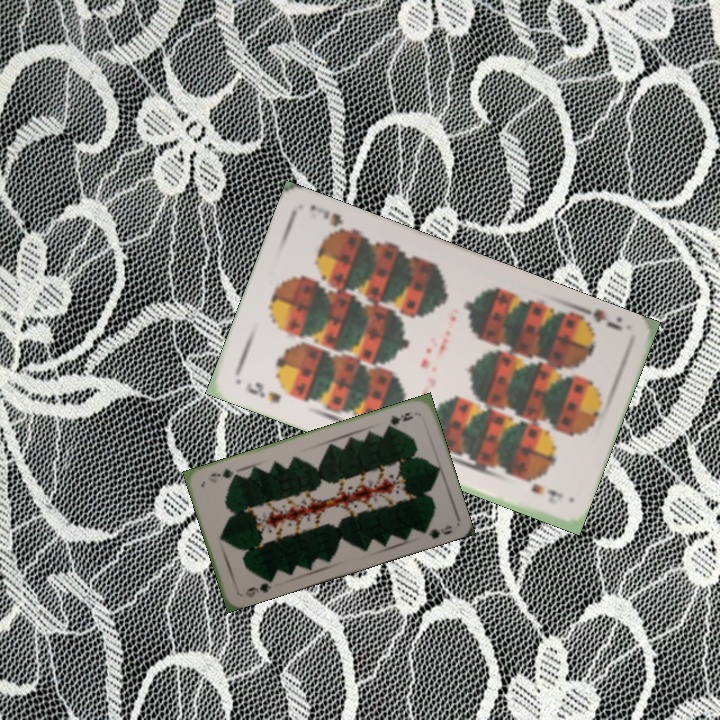G9: (241, 574, 275, 600), (383, 408, 416, 430)
S9: (572, 301, 626, 334), (242, 378, 284, 406)
